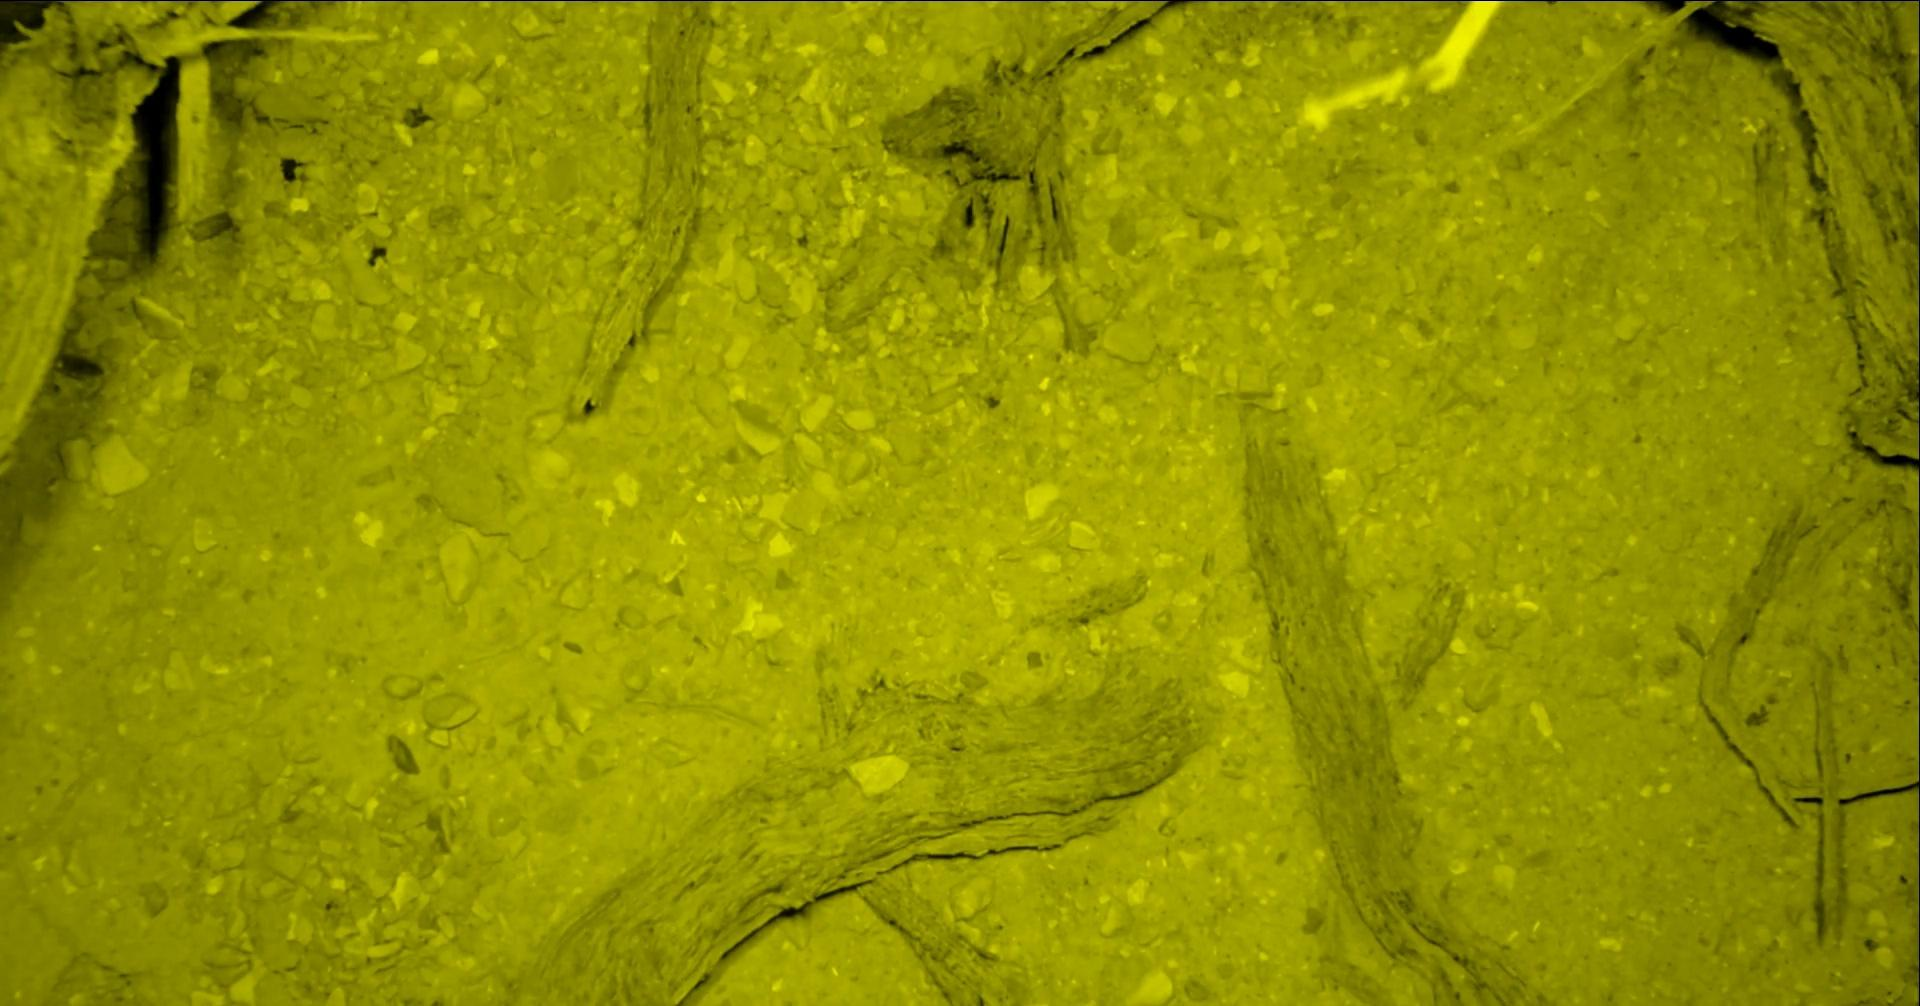ant: (1844, 0, 1920, 5), (1919, 909, 1920, 967), (1724, 0, 1779, 1)
